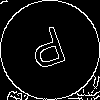P: (25, 25, 73, 79)
